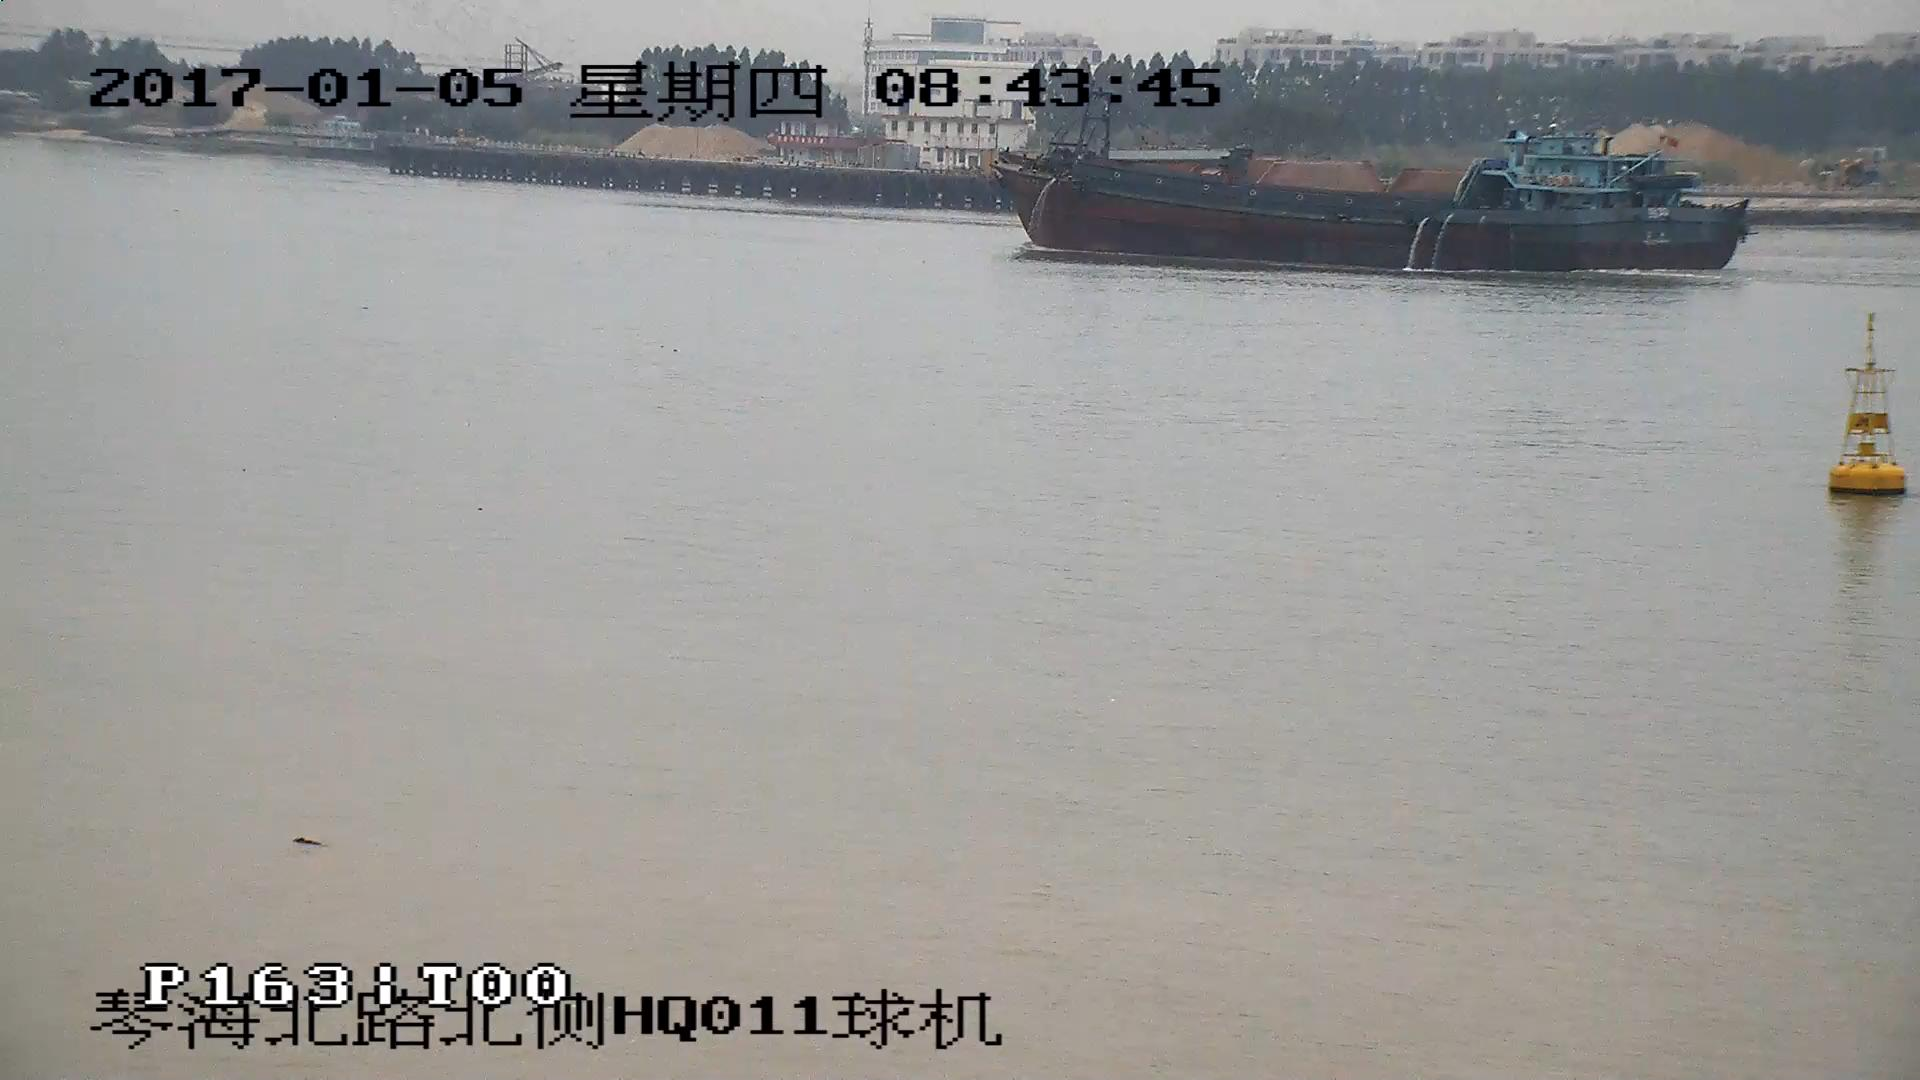bulk cargo carrier: (1001, 116, 1744, 271)
